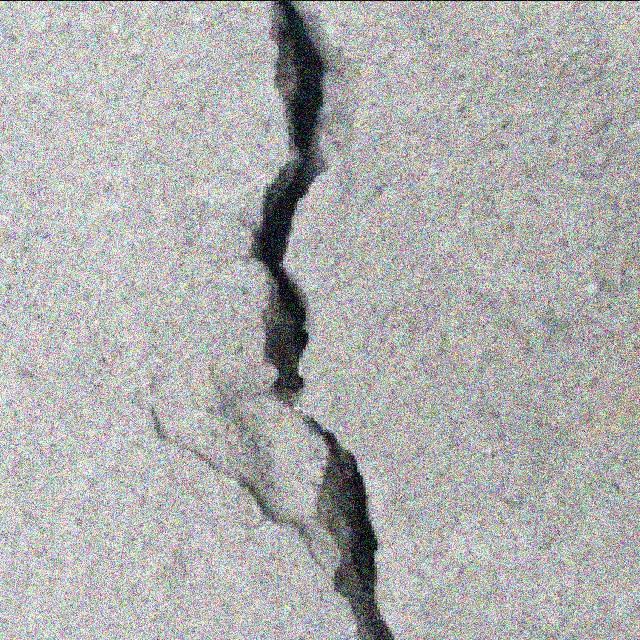SurfaceCrack: (218, 0, 412, 640)
